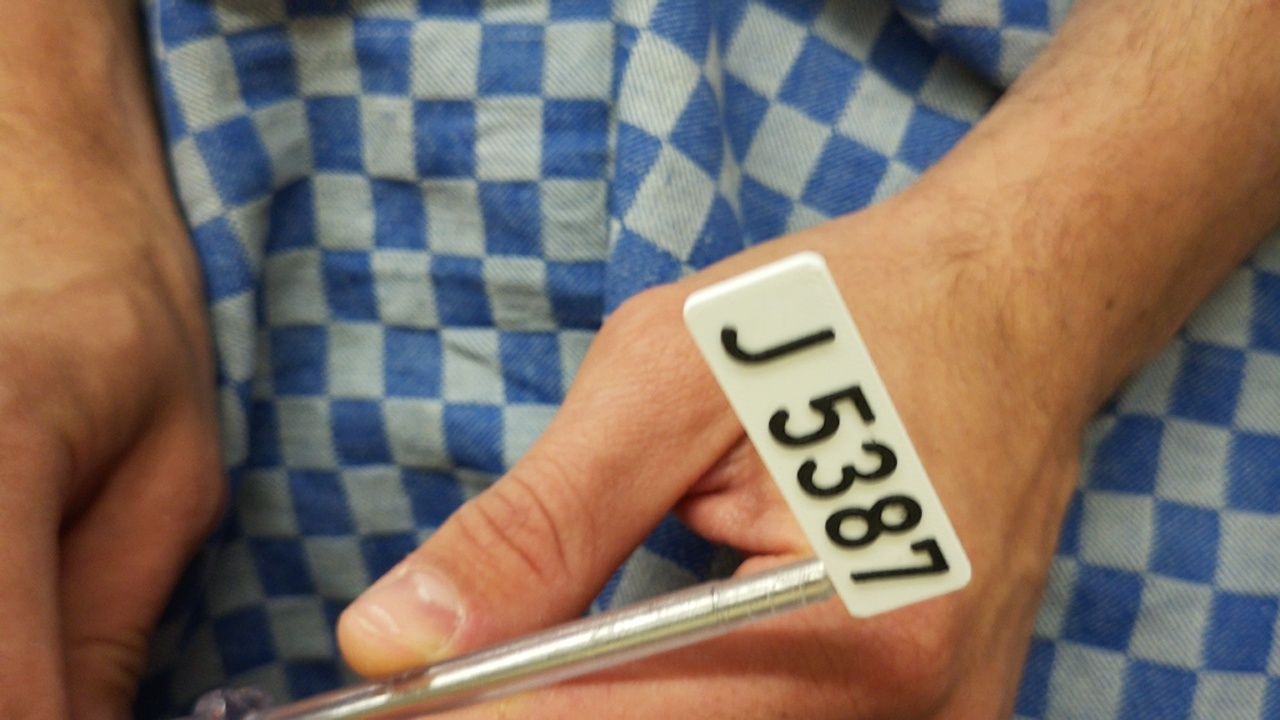license_plate: (679, 245, 977, 622)
